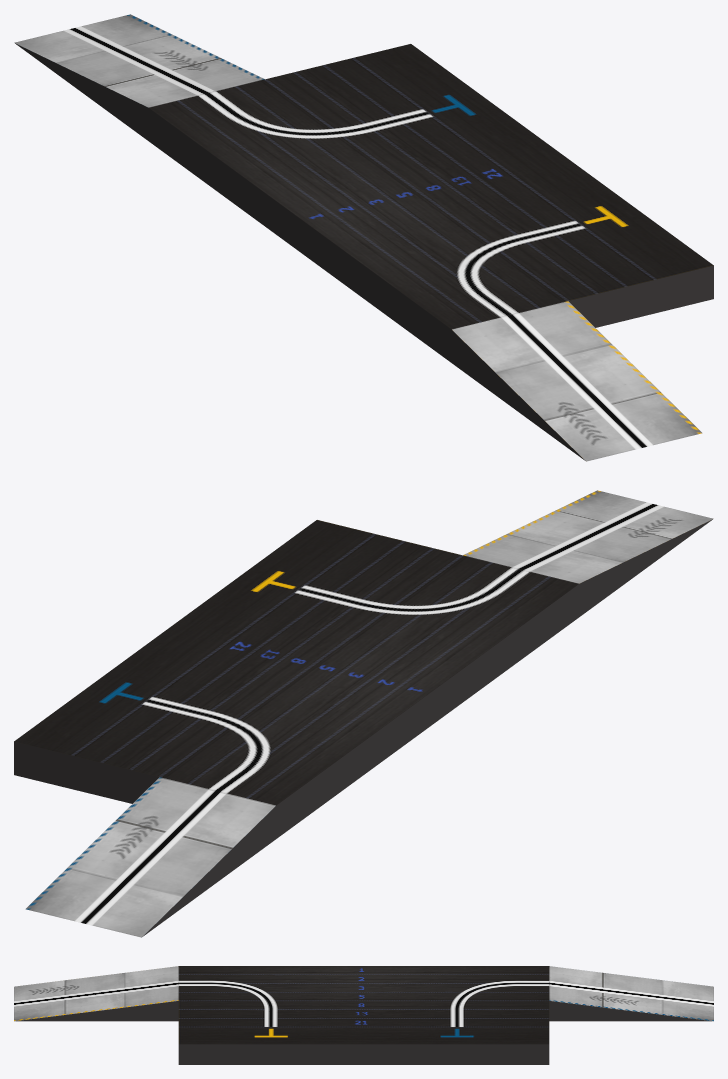
The model's file is stage.dae.
The picture shows the model from 3 angles, top to bottom: view 1: azimuth 30°, elevation 25°; view 2: azimuth 150°, elevation 25°; view 3: azimuth 270°, elevation 25°; orthographic projection. The views are drawn at different scales.
Parts seen in each view (by area): view 1: Part 1(20); view 2: Part 1(20); view 3: Part 1(20).
Boxes of the visible parts, x1=… form: Part 1(20): x1=14, y1=14, x2=713, y2=461; Part 1(20): x1=14, y1=490, x2=713, y2=937; Part 1(20): x1=14, y1=966, x2=713, y2=1064.
Bounding box in the file's own units: 0.45 × 1.7 × 0.055.
4 materials, 3 textured.
